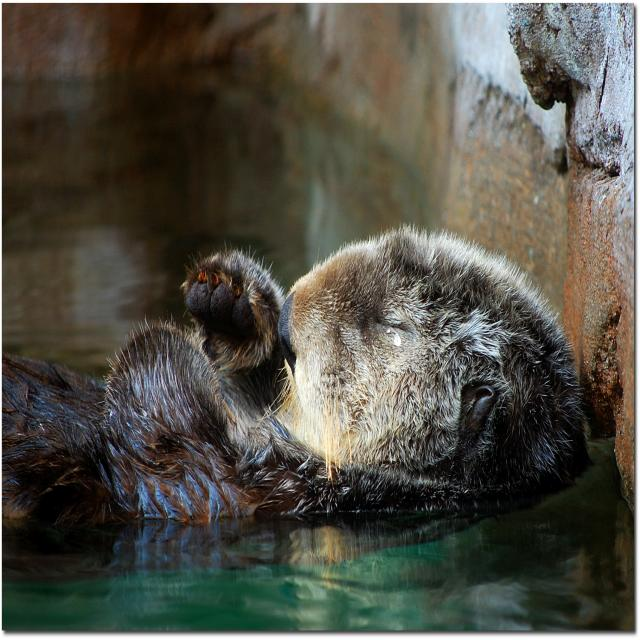otter: (3, 233, 582, 522)
